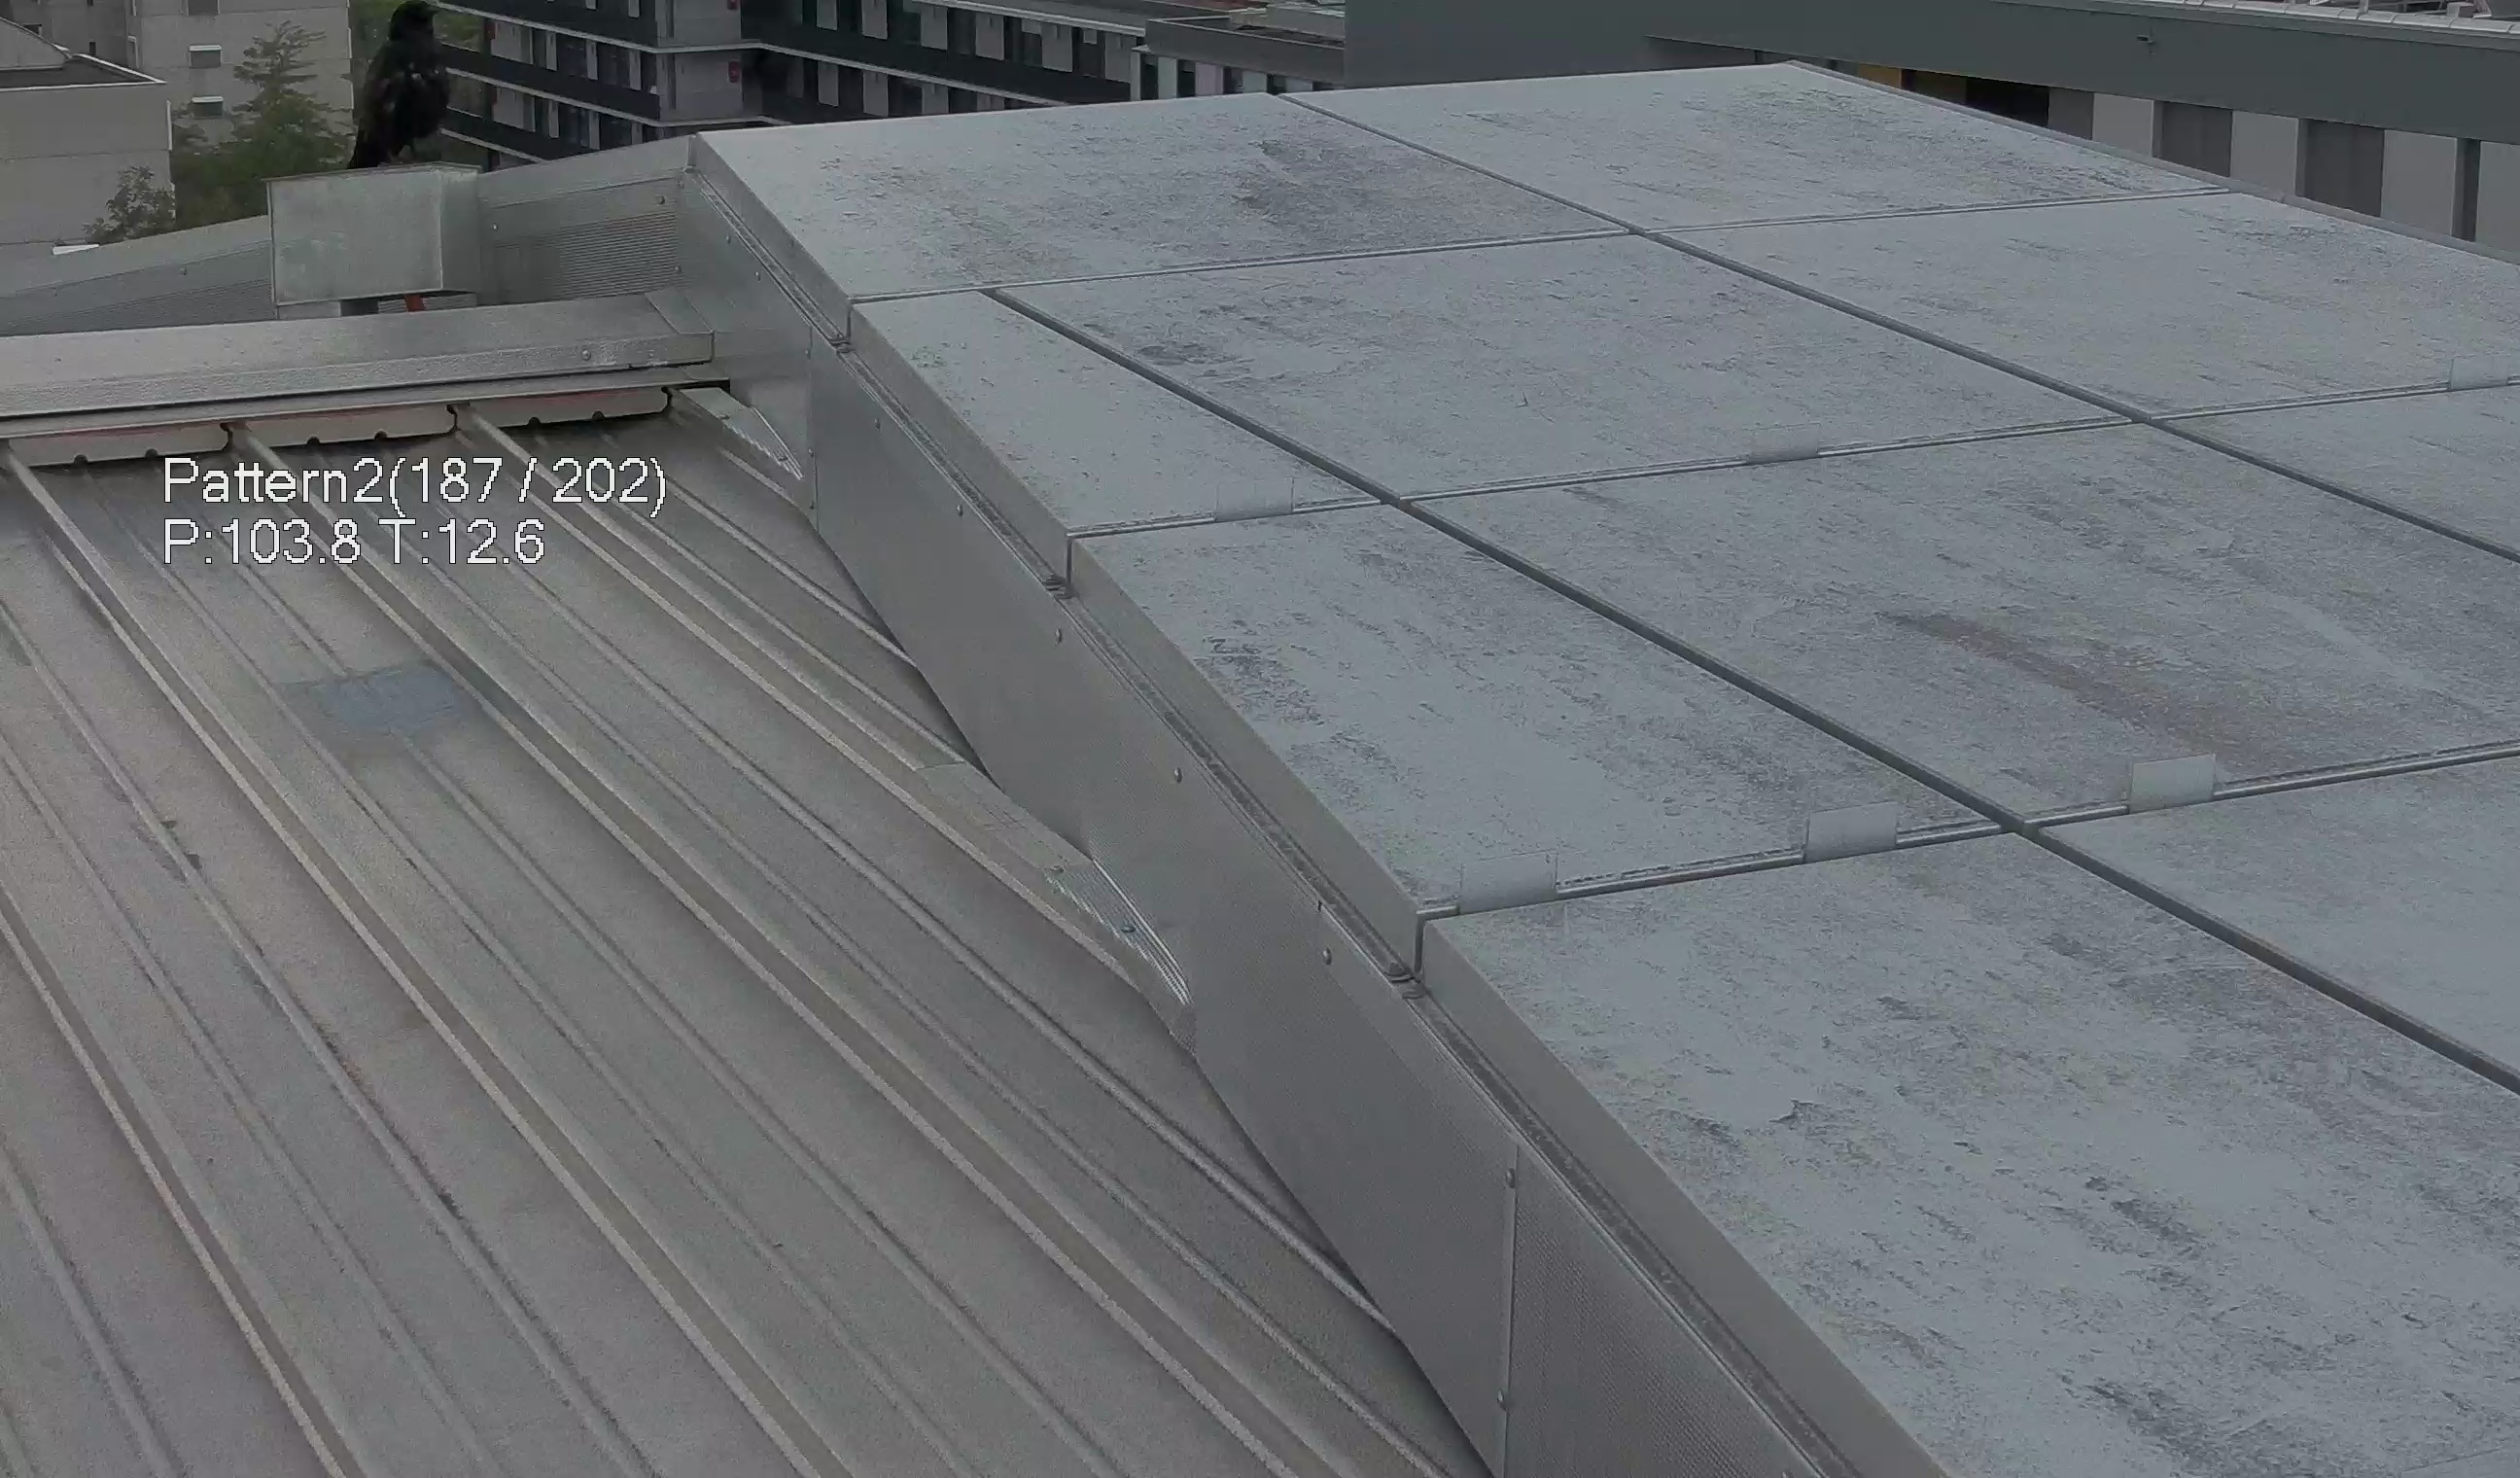Other: (332, 0, 447, 164)
